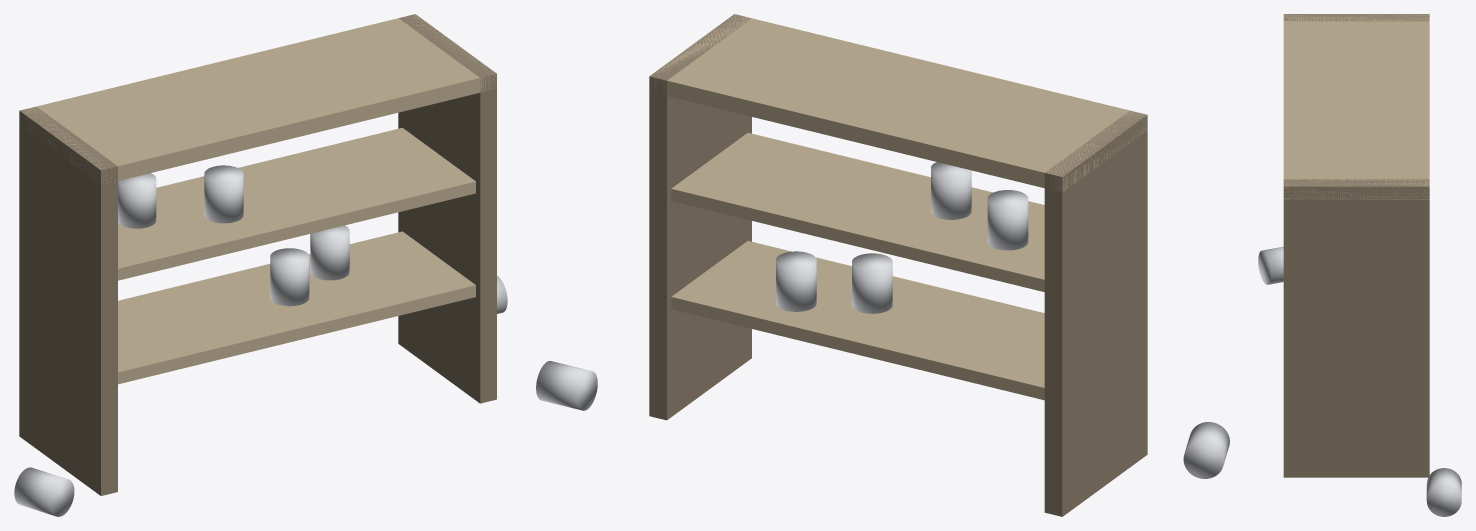
File: bakery-shelf.glb
3 renders of one model, left to right at view 1: azimuth 30°, elevation 25°; view 2: azimuth 150°, elevation 25°; view 3: azimuth 270°, elevation 25°, orthographic. The views are drawn at different scales.
Visible parts, largest first — view 1: GEO-shelf-top, GEO-shelf-up-l, GEO-shelf-mid-2, GEO-shelf-mid-1, GEO-shelf-up-r, GEO-shelf-fallen-2, GEO-shelf-tin-2, GEO-shelf-tin-4, GEO-shelf-tin-3, GEO-shelf-tin-1; view 2: GEO-shelf-top, GEO-shelf-up-l, GEO-shelf-mid-1, GEO-shelf-mid-2, GEO-shelf-up-r, GEO-shelf-tin-1, GEO-shelf-fallen-1, GEO-shelf-tin-3, GEO-shelf-tin-4, GEO-shelf-tin-2, GEO-shelf-fallen-2; view 3: GEO-shelf-up-r, GEO-shelf-top, GEO-shelf-fallen-1, GEO-shelf-up-l, GEO-shelf-fallen-2.
Part boxes in pixels (box(x1,y1,x2,y2)): GEO-shelf-top: box(19, 14, 496, 184); GEO-shelf-up-l: box(19, 107, 117, 495); GEO-shelf-mid-2: box(118, 231, 475, 384); GEO-shelf-mid-1: box(118, 128, 475, 280); GEO-shelf-up-r: box(398, 14, 496, 403); GEO-shelf-fallen-2: box(14, 467, 74, 516); GEO-shelf-tin-2: box(204, 165, 243, 223); GEO-shelf-tin-4: box(270, 248, 309, 306); GEO-shelf-tin-3: box(310, 225, 349, 280); GEO-shelf-tin-1: box(118, 173, 156, 228); GEO-shelf-top: box(649, 14, 1147, 192); GEO-shelf-up-l: box(1044, 110, 1147, 516); GEO-shelf-mid-1: box(671, 132, 1044, 291); GEO-shelf-mid-2: box(671, 241, 1044, 400); GEO-shelf-up-r: box(649, 14, 751, 420); GEO-shelf-tin-1: box(987, 190, 1028, 250); GEO-shelf-fallen-1: box(536, 361, 597, 410); GEO-shelf-tin-3: box(776, 251, 816, 311); GEO-shelf-tin-4: box(852, 253, 892, 313); GEO-shelf-tin-2: box(931, 162, 971, 219); GEO-shelf-fallen-2: box(1183, 422, 1229, 478); GEO-shelf-up-r: box(1283, 179, 1429, 477); GEO-shelf-top: box(1283, 14, 1429, 199); GEO-shelf-fallen-1: box(1426, 468, 1461, 516); GEO-shelf-up-l: box(1283, 14, 1429, 21); GEO-shelf-fallen-2: box(1258, 246, 1283, 284).
Bounding box in the file's own units: 2 × 1.1 × 0.6978.
